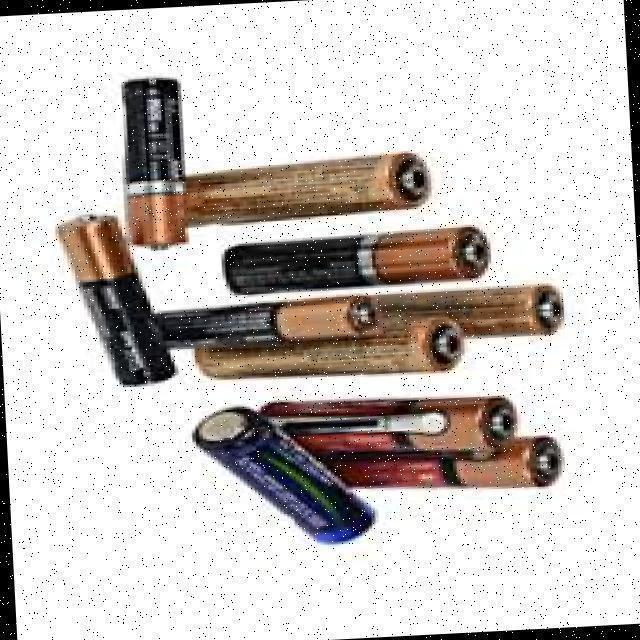AA: (190, 403, 383, 547), (54, 211, 181, 391), (217, 224, 497, 299), (117, 76, 193, 254)
